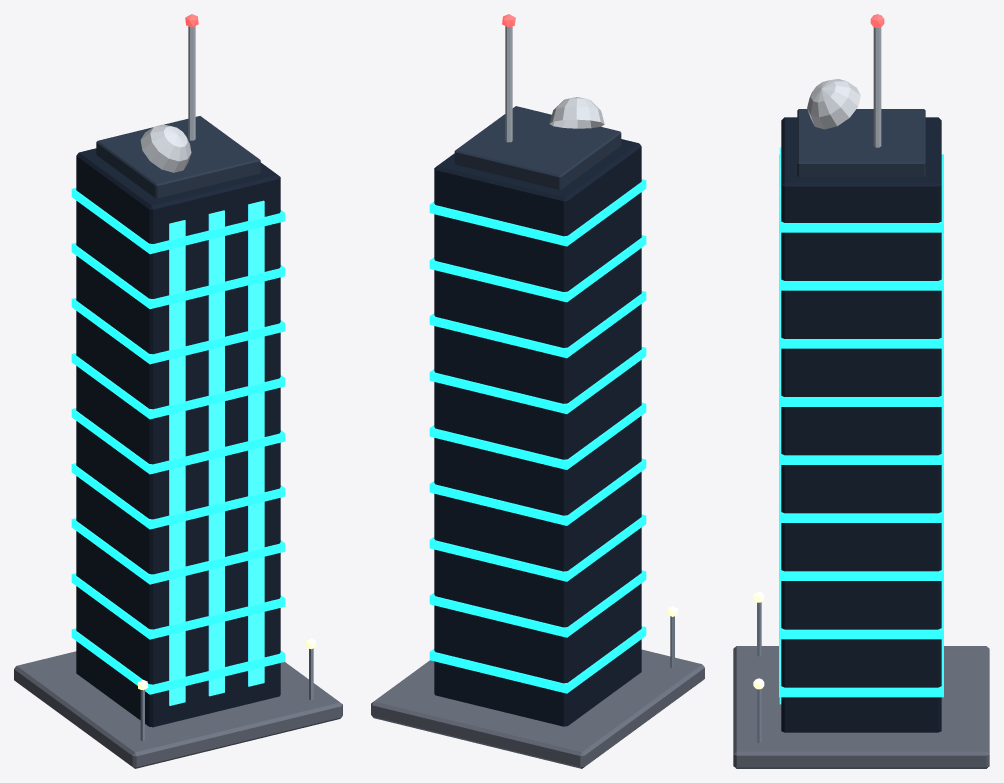
Rendered from fe-hub-CdLvRmLQ.glb.
3 renders of one model, left to right at view 1: azimuth 30°, elevation 25°; view 2: azimuth 150°, elevation 25°; view 3: azimuth 270°, elevation 25°, orthographic. The views are drawn at different scales.
Visible parts, largest first — view 1: Cube; view 2: Cube; view 3: Cube.
Part boxes in pixels (<box>): Cube: <box>14,14,342,768</box>; Cube: <box>371,14,704,768</box>; Cube: <box>733,14,989,768</box>.
Bounding box in the file's own units: 0.8 × 2.46 × 0.8.
